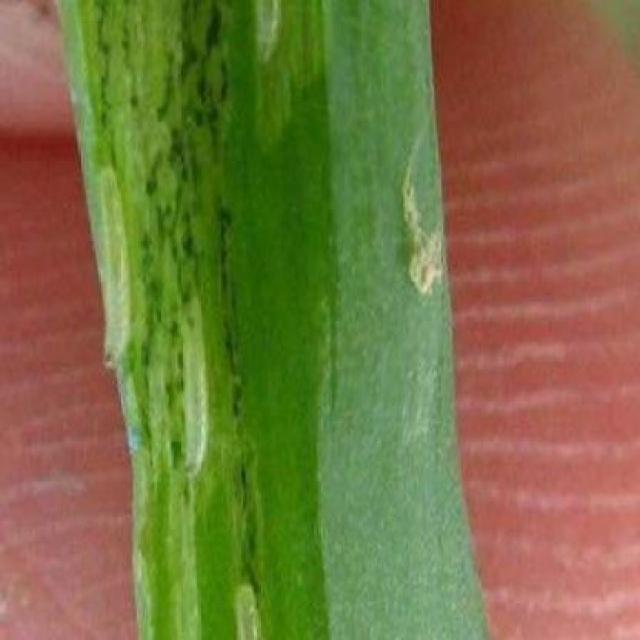whorl-maggot: (91, 156, 140, 376), (172, 286, 214, 491)
